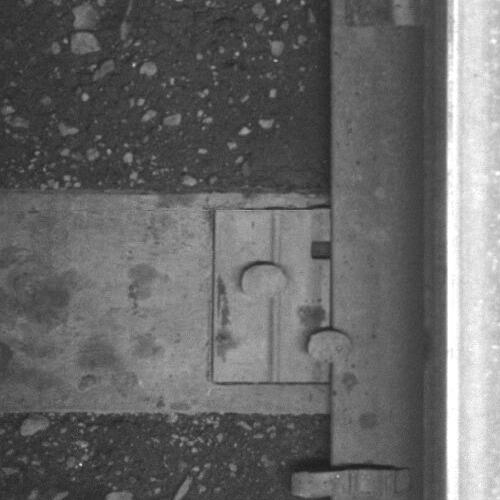crutch: (290, 465, 414, 497)
do: (211, 208, 353, 384)
fp_end: (345, 1, 425, 53)
hole_do: (302, 231, 341, 268)
rail: (444, 1, 500, 500)
tie_wood: (1, 193, 330, 415)
